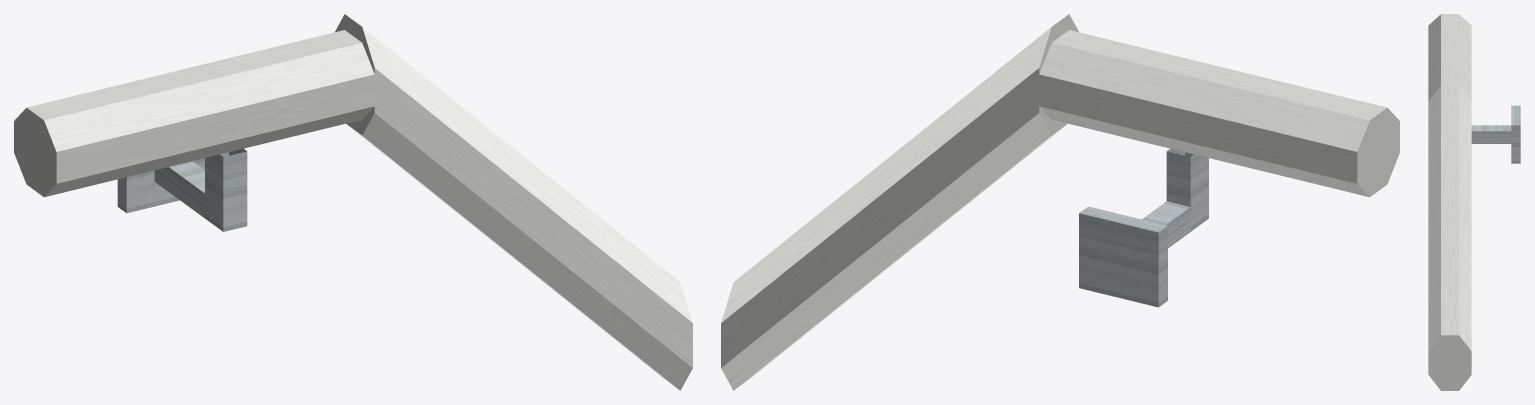
File: top_neg.obj
3 views of the same model, side by side, from view 1: azimuth 30°, elevation 25°; view 2: azimuth 150°, elevation 25°; view 3: azimuth 270°, elevation 25° (orthographic). The views are drawn at different scales.
Visible parts, largest first — view 1: handrail_wall_white_round_top_neg; view 2: handrail_wall_white_round_top_neg; view 3: handrail_wall_white_round_top_neg.
Part boxes in pixels (<box>): handrail_wall_white_round_top_neg: <box>14,14,692,390</box>; handrail_wall_white_round_top_neg: <box>721,14,1399,390</box>; handrail_wall_white_round_top_neg: <box>1428,14,1520,390</box>.
Bounding box in the file's own units: 1 × 0.6633 × 0.2452.
